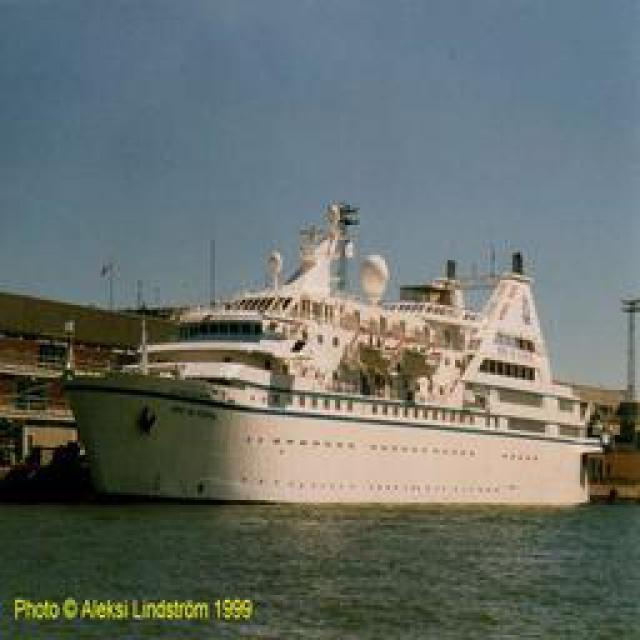Ship: (66, 205, 619, 505)
